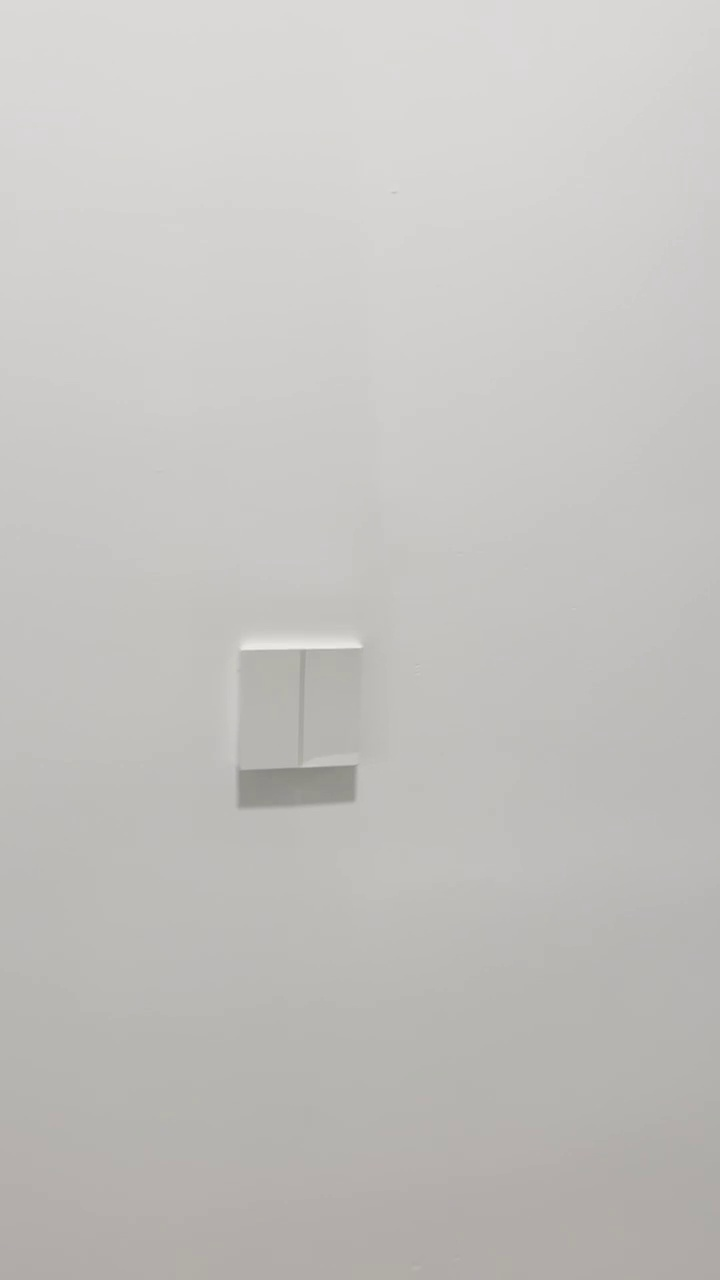button: (232, 636, 369, 776)
